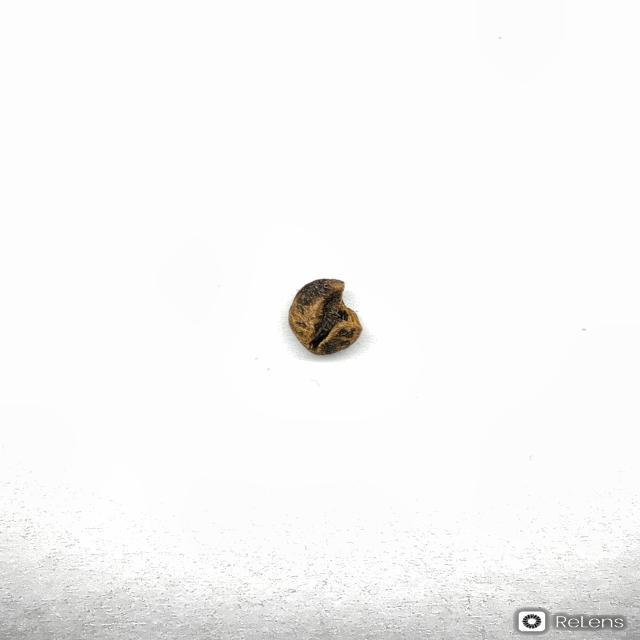Insect damage: (287, 277, 363, 356)
